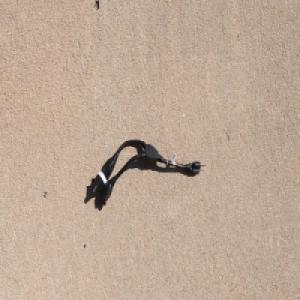Wire: (89, 138, 206, 206)
